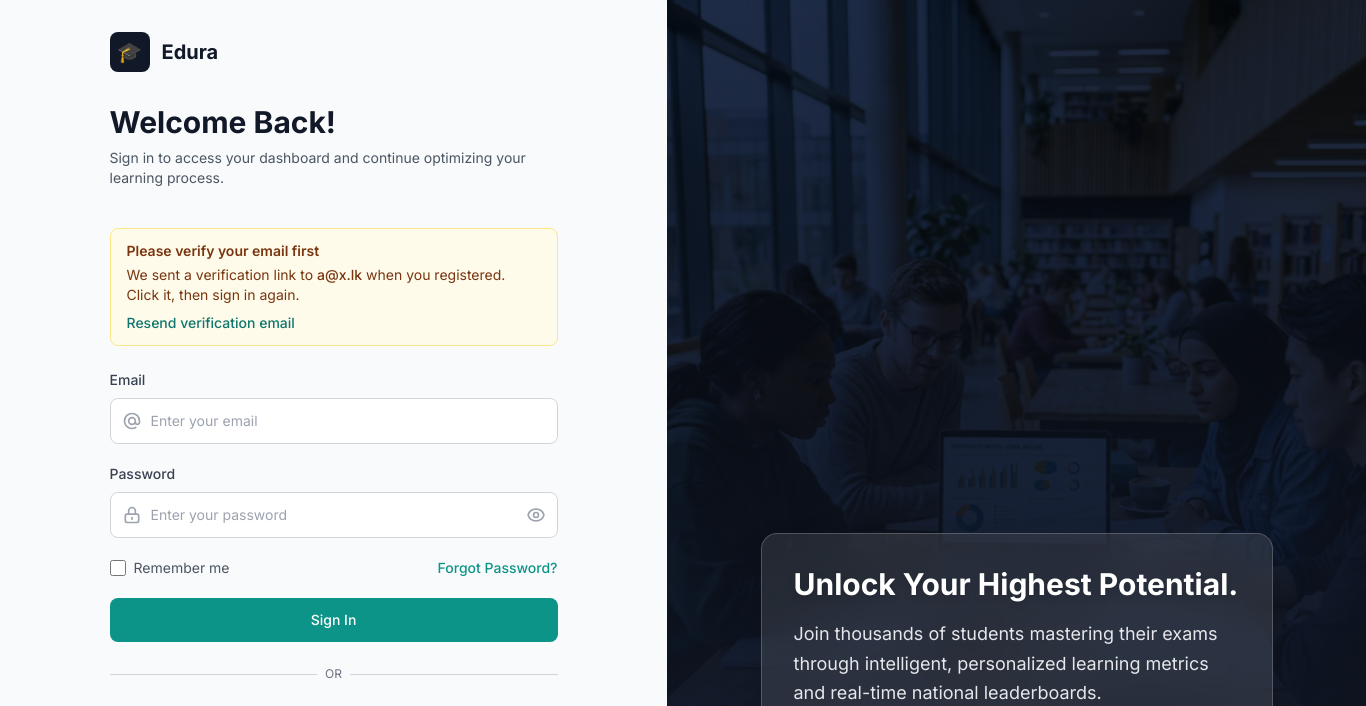
Test: Login page › explains when the verification email cannot be sent
The width and height of the screenshot is (1366, 706).
What coordinates should you click on to do the following:
click the button "Resend verification email"
I would click on:
 (211, 323)
Its box is 126,313 -> 295,333.
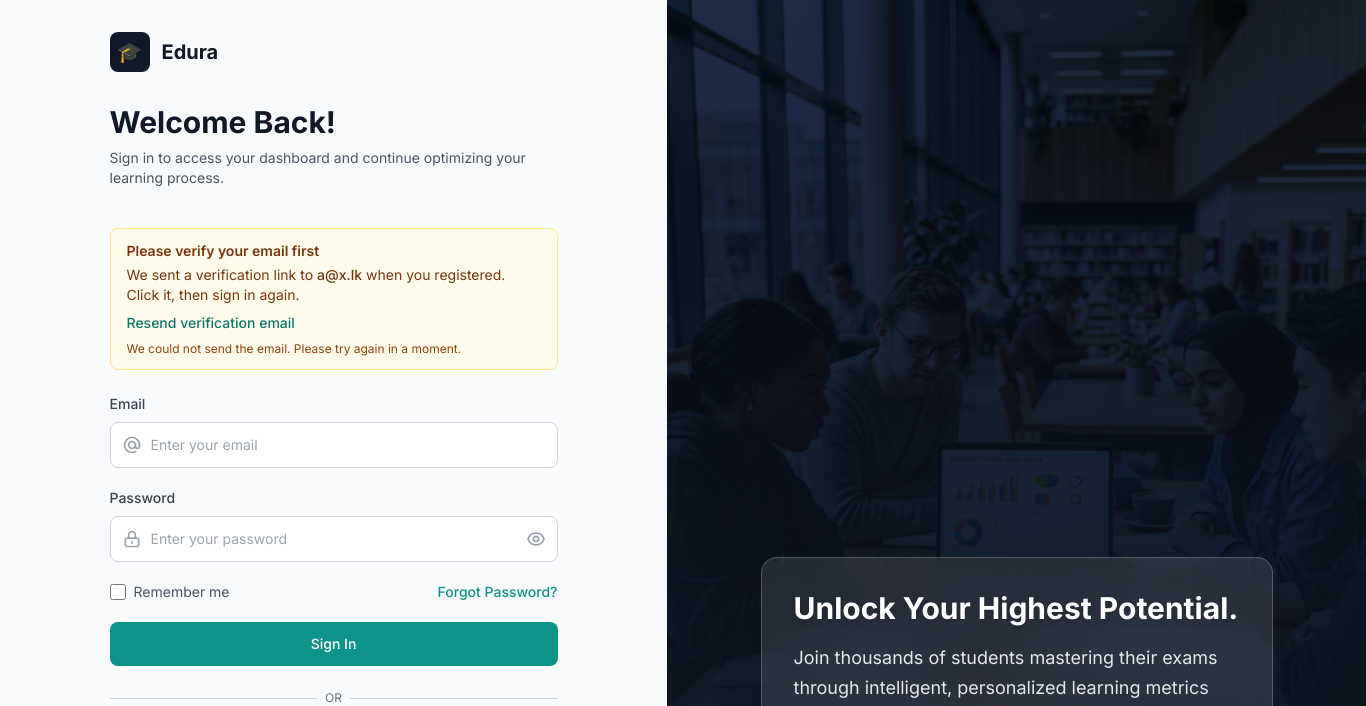
Now the text "We could not send the email. Please try again in a moment." is shown, box 126,341 -> 461,356
